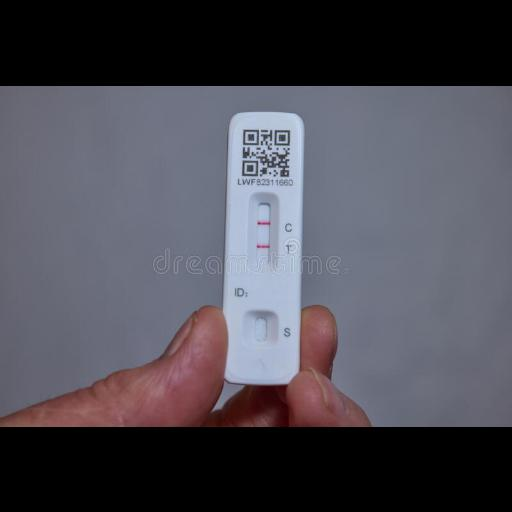Pos: (228, 112, 302, 382)
